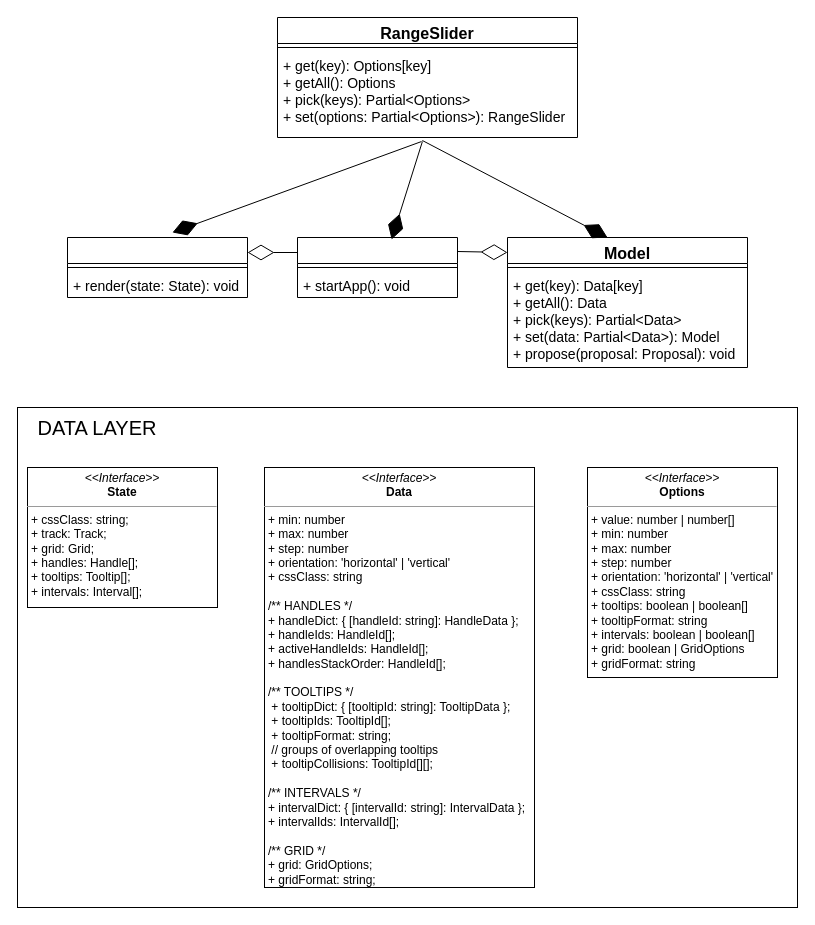
Image size: 815x925. Some labels were removed from this diagram. Each missing label, with the box of its shape:
Presenter: (296, 236, 458, 298)
View: (66, 236, 248, 298)
